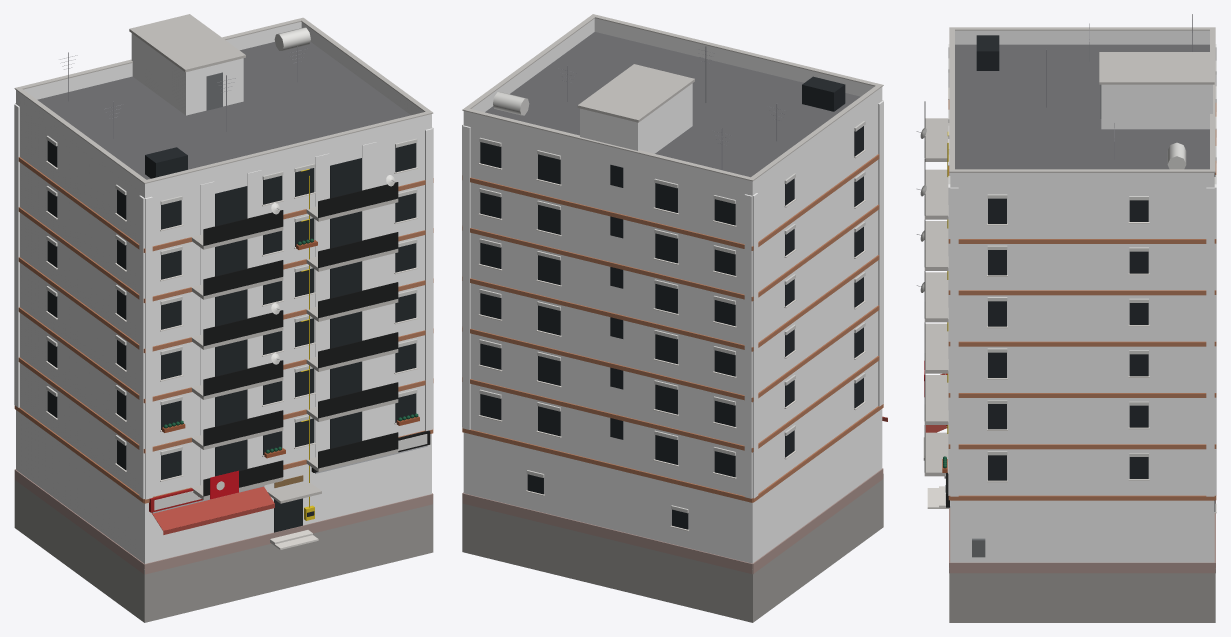
The model's file is bina_02.glb.
3 renders of one model, left to right at view 1: azimuth 30°, elevation 25°; view 2: azimuth 150°, elevation 25°; view 3: azimuth 270°, elevation 25°, orthographic. The views are drawn at different scales.
Visible parts, largest first — view 1: P02_Apt_Dukkanli_C_L1.001; view 2: P02_Apt_Dukkanli_C_L1.001; view 3: P02_Apt_Dukkanli_C_L1.001.
Boxes of the visible parts, x1=… form: P02_Apt_Dukkanli_C_L1.001: x1=14, y1=14, x2=433, y2=622; P02_Apt_Dukkanli_C_L1.001: x1=462, y1=14, x2=887, y2=622; P02_Apt_Dukkanli_C_L1.001: x1=916, y1=14, x2=1216, y2=622.
Size of the model in its own units: 18.31 by 28.84 by 15.91.
